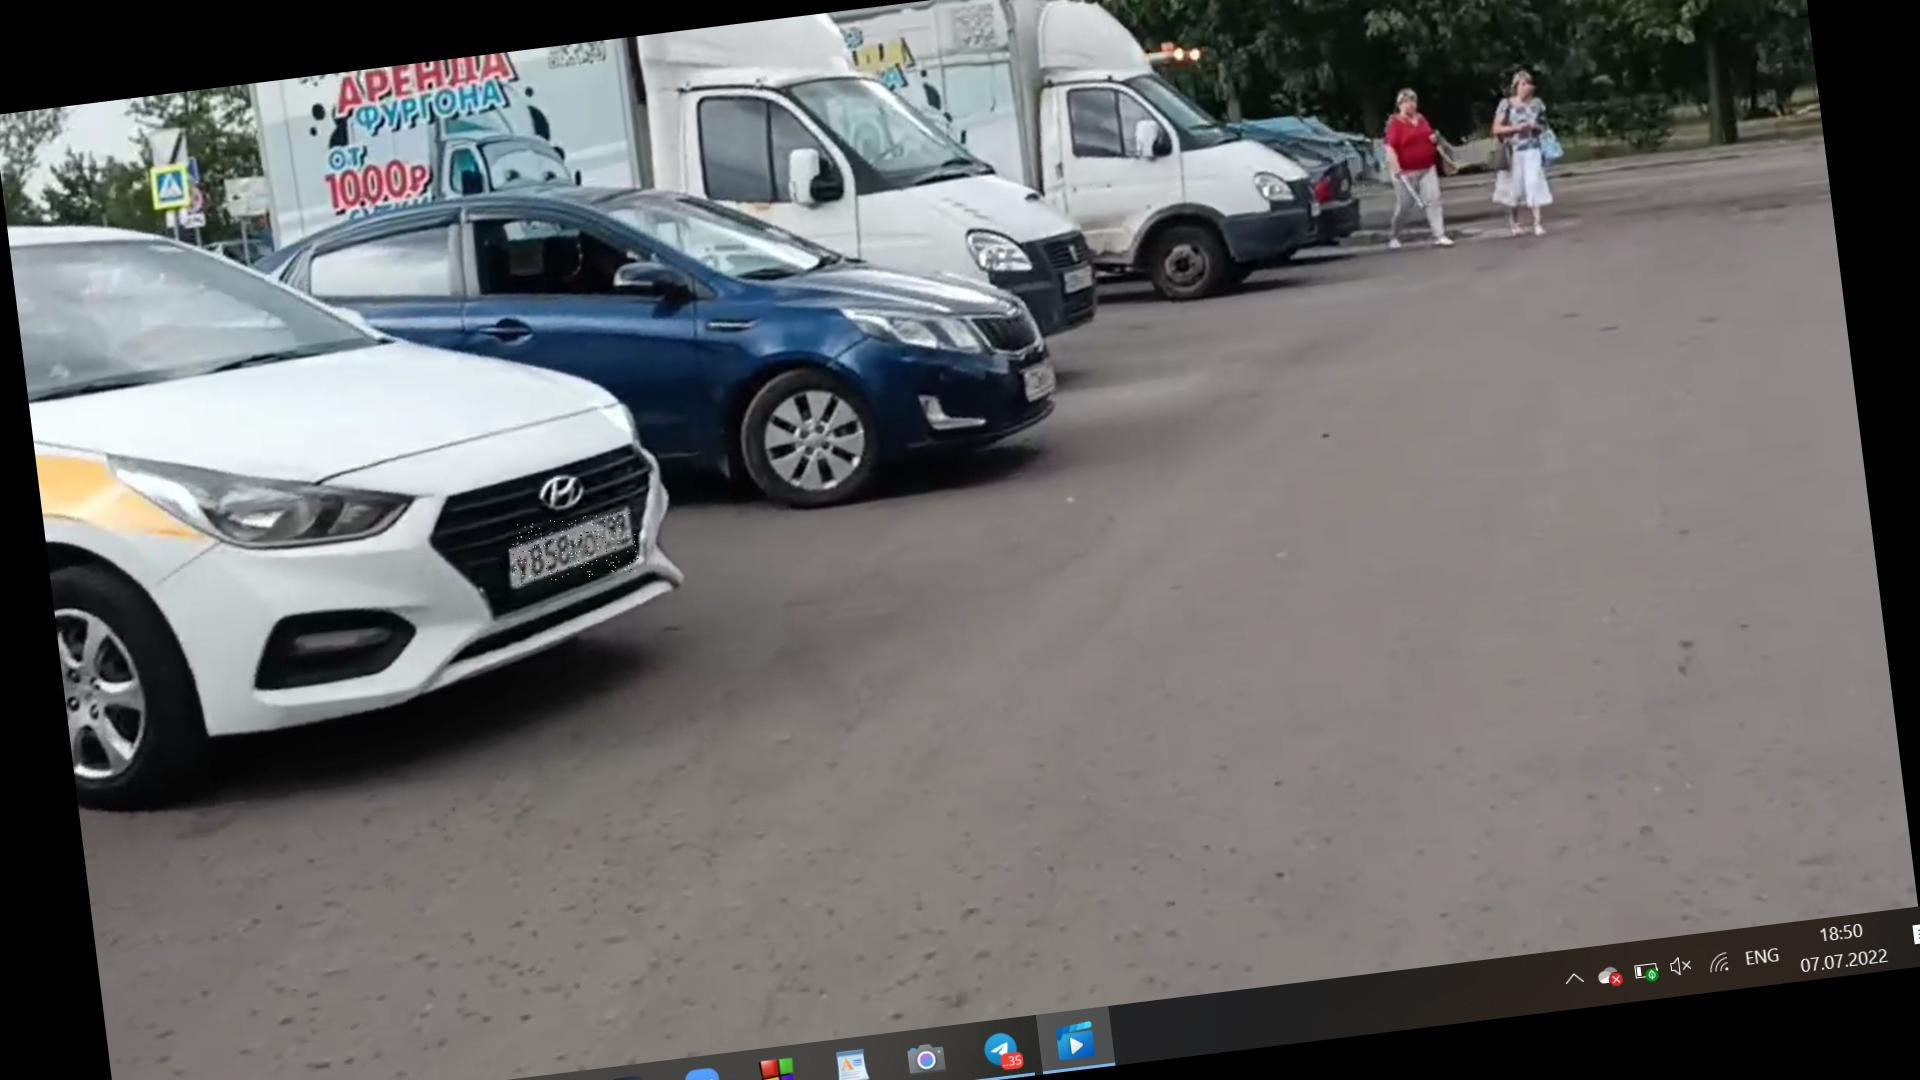plate: (507, 512, 641, 588)
